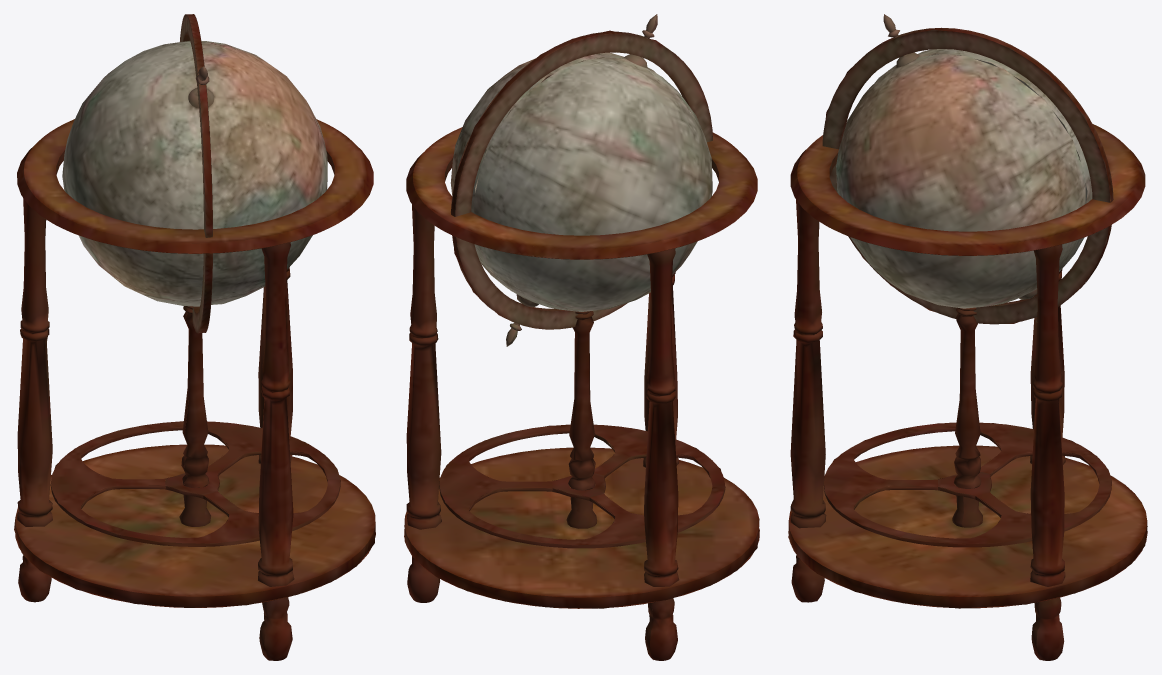
The model's file is obj_floor_globe.glb.
3 renders of one model, left to right at view 1: azimuth 30°, elevation 25°; view 2: azimuth 150°, elevation 25°; view 3: azimuth 270°, elevation 25°, orthographic.
Parts seen in each view (by area): view 1: defaultMaterial; view 2: defaultMaterial; view 3: defaultMaterial.
Part boxes in pixels (<box>): defaultMaterial: <box>14,14,375,660</box>; defaultMaterial: <box>404,14,759,660</box>; defaultMaterial: <box>788,14,1147,660</box>.
Bounding box in the file's own units: 0.5758 × 1 × 0.5742.
Materials: 1 (1 with a texture image).
